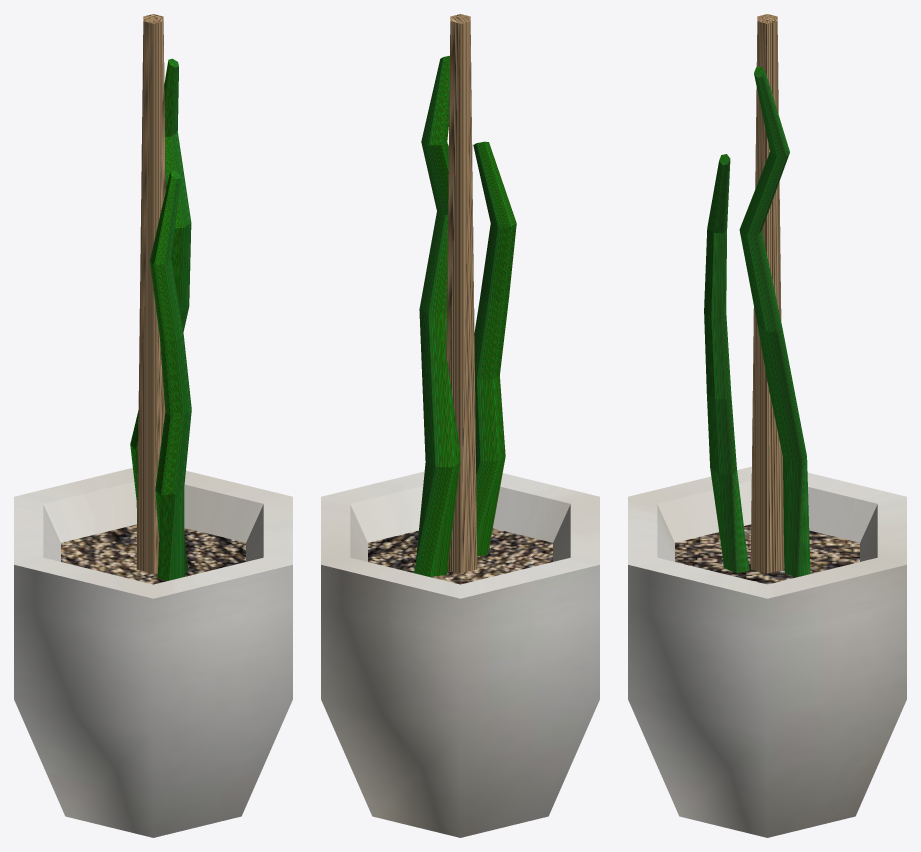
File: storczyk2.FBX
The picture shows the model from 3 angles, left to right: view 1: azimuth 30°, elevation 25°; view 2: azimuth 150°, elevation 25°; view 3: azimuth 270°, elevation 25°; orthographic projection.
Visible parts, largest first — view 1: Cylinder001, Object001, Object005, Object004, Object006; view 2: Cylinder001, Object006, Object001, Object005, Object004; view 3: Cylinder001, Object006, Object001, Object005, Object004.
Part boxes in pixels (<box>): Cylinder001: <box>14,468,292,837</box>; Object001: <box>136,14,165,573</box>; Object005: <box>150,170,191,580</box>; Object004: <box>61,524,245,584</box>; Object006: <box>130,58,191,527</box>; Cylinder001: <box>321,471,599,837</box>; Object006: <box>414,55,460,576</box>; Object001: <box>446,14,477,573</box>; Object005: <box>473,141,516,556</box>; Object004: <box>368,528,552,584</box>; Cylinder001: <box>628,466,906,837</box>; Object006: <box>739,66,810,577</box>; Object001: <box>750,14,784,573</box>; Object005: <box>704,154,749,573</box>; Object004: <box>675,524,859,584</box>.
Bounding box in the file's own units: 46.22 × 123 × 40.03.
4 materials, 4 textured.
